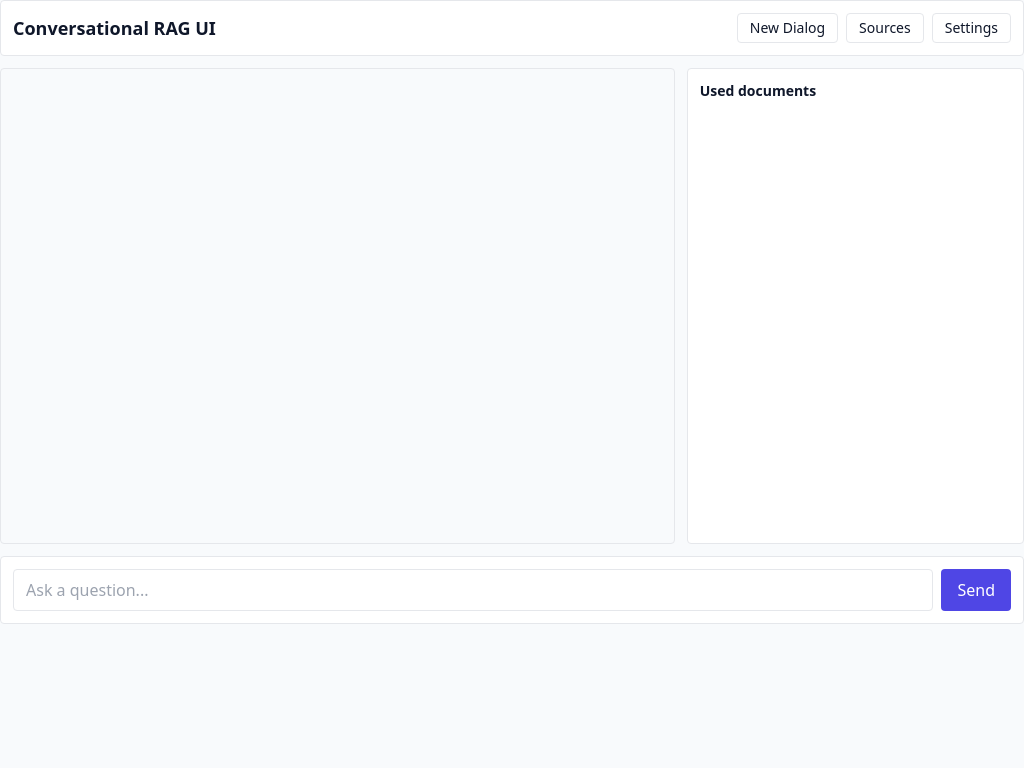
it: QueryPage conversational UI › maps refusal message safely
The image size is (1024, 768).
Type "secret?" into the field with placeholder "Ask a question...".
click(473, 590); type("secret?")  # box top-left (13, 569), bottom-right (934, 611)
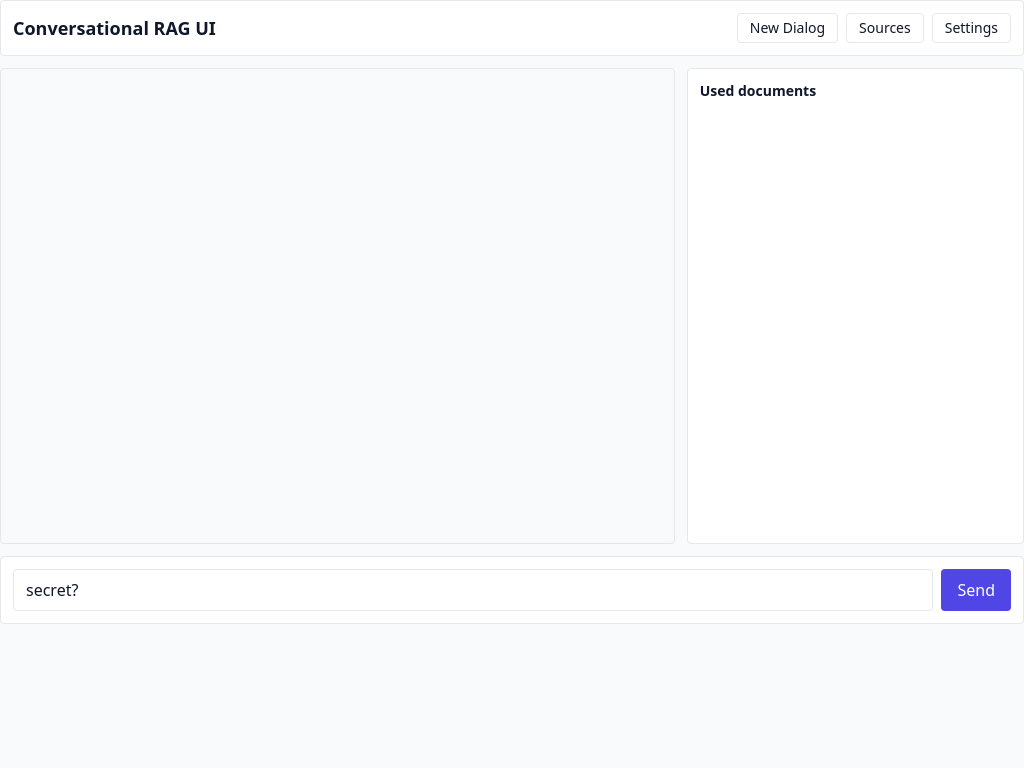
Click the button "Send".
click(976, 590)  # box top-left (942, 569), bottom-right (1011, 611)
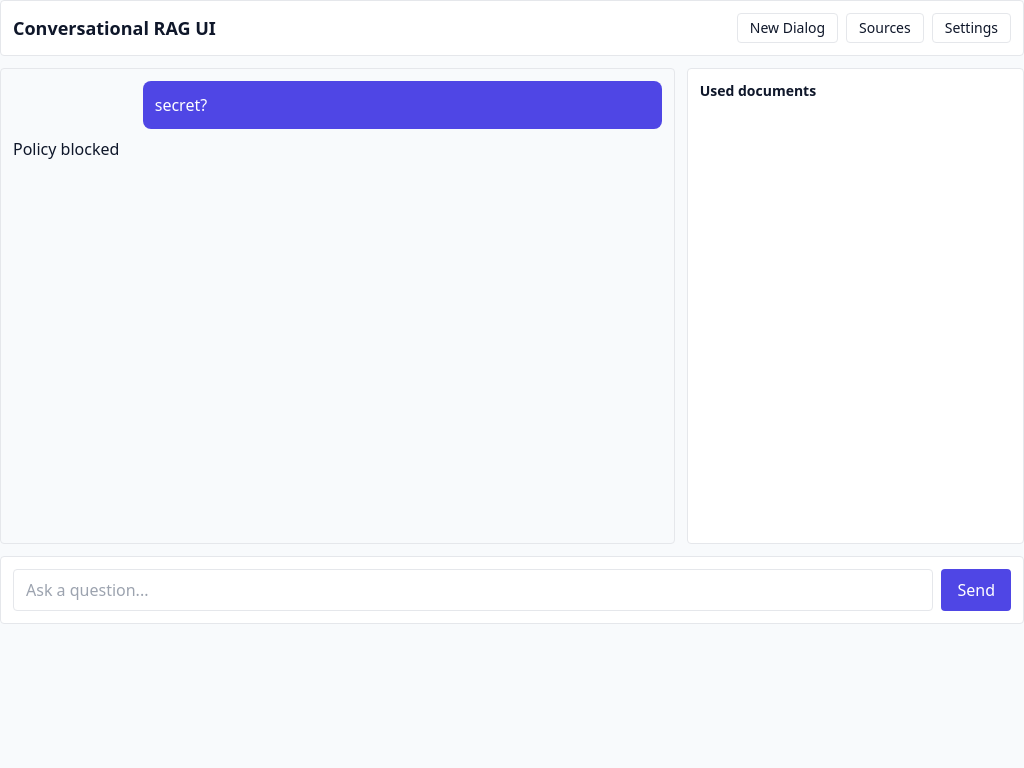
Expected: the text "Policy blocked" is shown, top-left (13, 138), bottom-right (119, 160)
